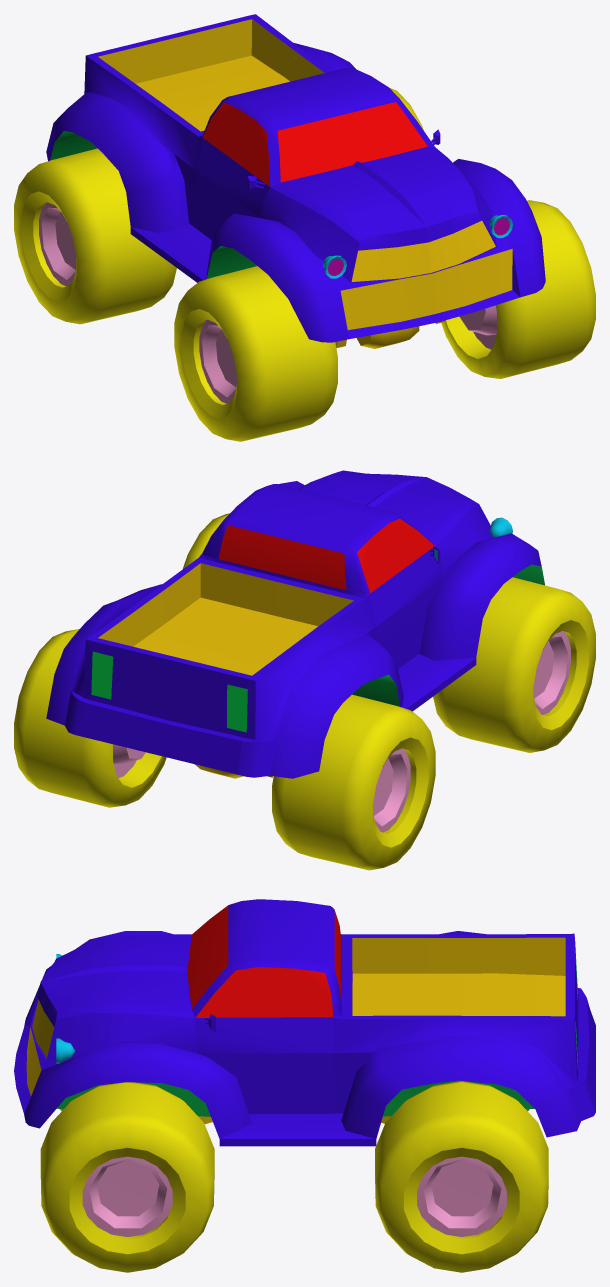
The model's file is 10_GrulloBASS_ColorCoded.fbx.
The picture shows the model from 3 angles, top to bottom: view 1: azimuth 30°, elevation 25°; view 2: azimuth 150°, elevation 25°; view 3: azimuth 270°, elevation 25°; orthographic projection. The views are drawn at different scales.
Parts seen in each view (by area): view 1: Body, tireFrontR, tireBackR, tireFrontL; view 2: Body, tireBackR, tireFrontR, tireBackL, tireFrontL; view 3: Body, tireBackL, tireFrontL.
Part boxes in pixels (x1,y1,x2,y2): Body: [46, 14, 545, 348]; tireFrontR: [174, 266, 337, 441]; tireBackR: [14, 148, 176, 324]; tireFrontL: [441, 200, 595, 378]; Body: [46, 470, 544, 778]; tireBackR: [272, 694, 435, 870]; tireFrontR: [433, 577, 595, 752]; tireBackL: [14, 629, 166, 807]; tireFrontL: [183, 513, 229, 568]; Body: [14, 899, 595, 1146]; tireBackL: [375, 1081, 548, 1272]; tireFrontL: [40, 1082, 214, 1272].
Bounding box in the file's own units: 83.55 × 115 × 57.25.
